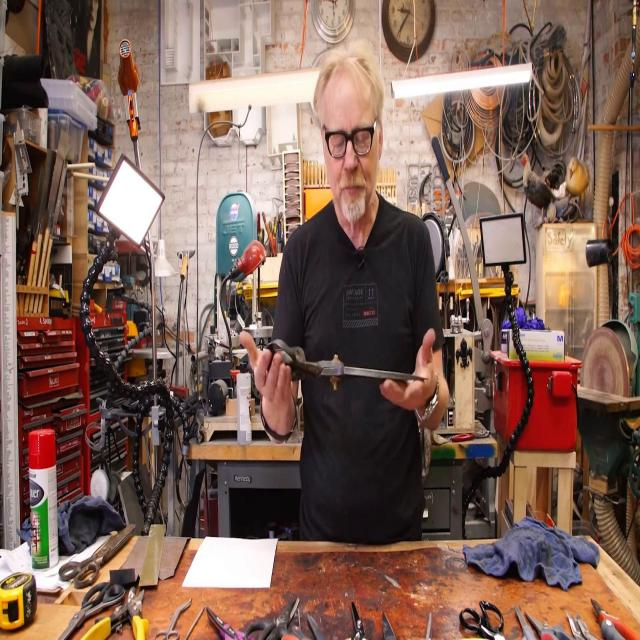scissor: (266, 338, 429, 382), (57, 522, 136, 589), (58, 580, 124, 640), (244, 596, 300, 640), (459, 599, 506, 640), (154, 595, 193, 640), (206, 605, 253, 640), (525, 611, 575, 640), (280, 607, 312, 640), (344, 600, 368, 640), (514, 604, 538, 640)
